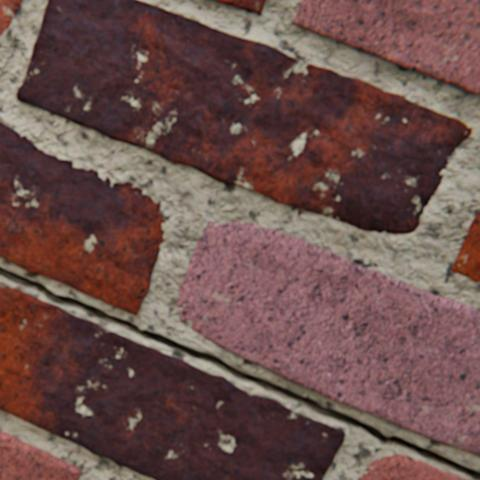brick: (17, 0, 470, 234), (176, 221, 479, 455), (0, 284, 343, 479), (0, 122, 165, 314), (293, 0, 479, 96), (0, 430, 81, 479), (356, 454, 468, 479), (450, 210, 479, 282), (0, 0, 23, 37), (210, 0, 266, 15)
crack: (0, 267, 479, 479)
